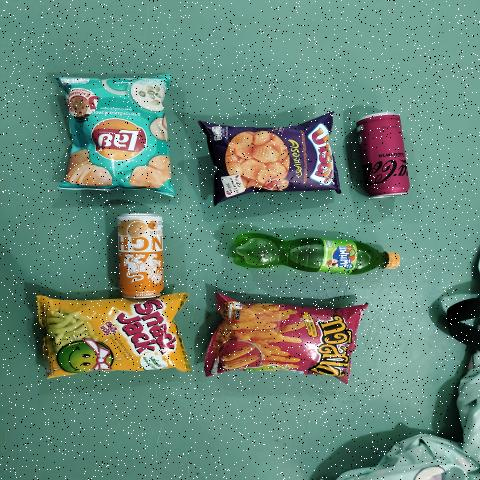coke_red: (356, 108, 412, 201)
fanta_green: (236, 228, 404, 280)
lay_blue: (78, 79, 160, 191)
party_purple: (214, 128, 331, 191)
singha_yellow: (115, 209, 166, 299)
snack_jack: (40, 302, 178, 370)
twisco: (218, 296, 360, 377)
